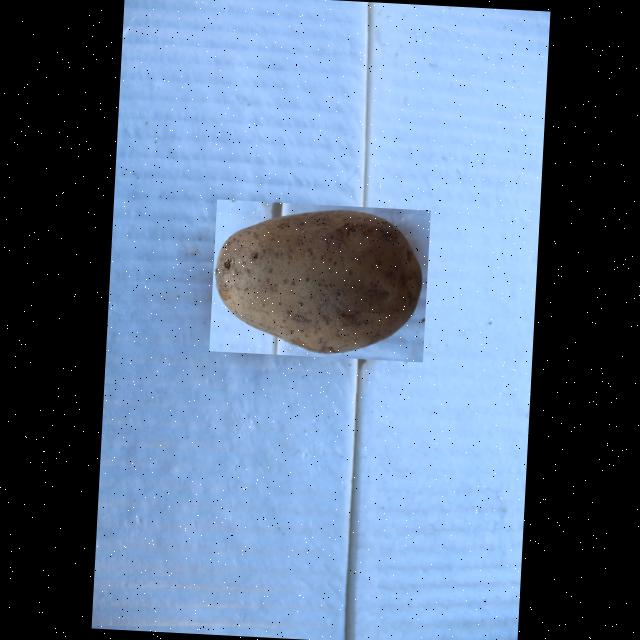Diseased-fungal potato: (208, 200, 430, 362)
